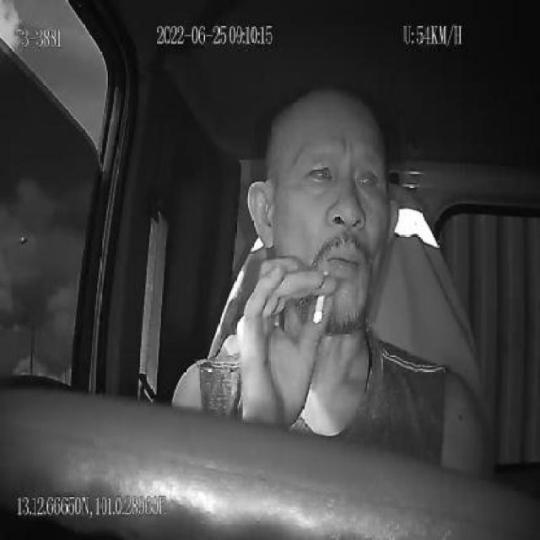smoking: (312, 267, 327, 325)
